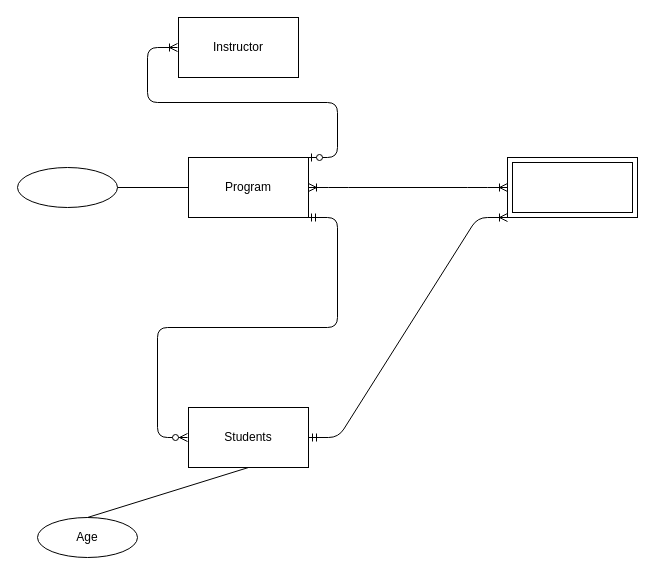
This 655x575 diagram has some shape labels left out. Each missing label, with the centre of its shape:
"Course" goes at (x=572, y=187).
"pro_name" goes at (x=67, y=187).
